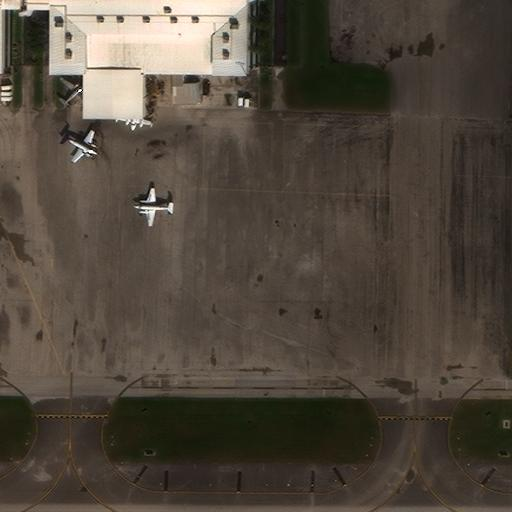Small Civil Transport: (132, 187, 173, 226), (115, 98, 152, 131), (64, 131, 97, 163), (61, 76, 89, 108)
